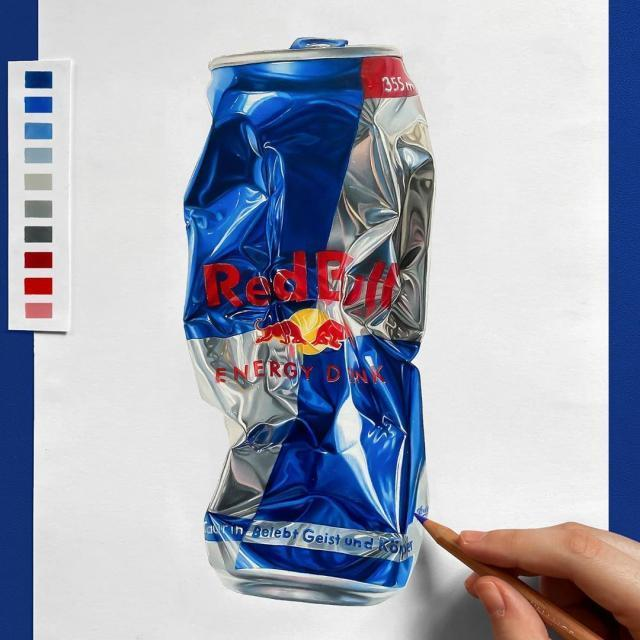metal-can: (180, 31, 433, 606)
